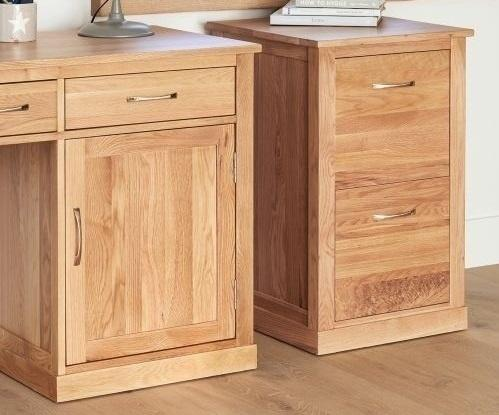cabinet_door: (64, 132, 236, 345), (333, 183, 449, 312), (335, 54, 449, 181), (64, 73, 235, 125), (0, 82, 58, 135)
handle: (124, 89, 180, 107), (369, 77, 419, 97), (370, 207, 417, 226), (72, 205, 85, 267), (0, 102, 30, 117)
